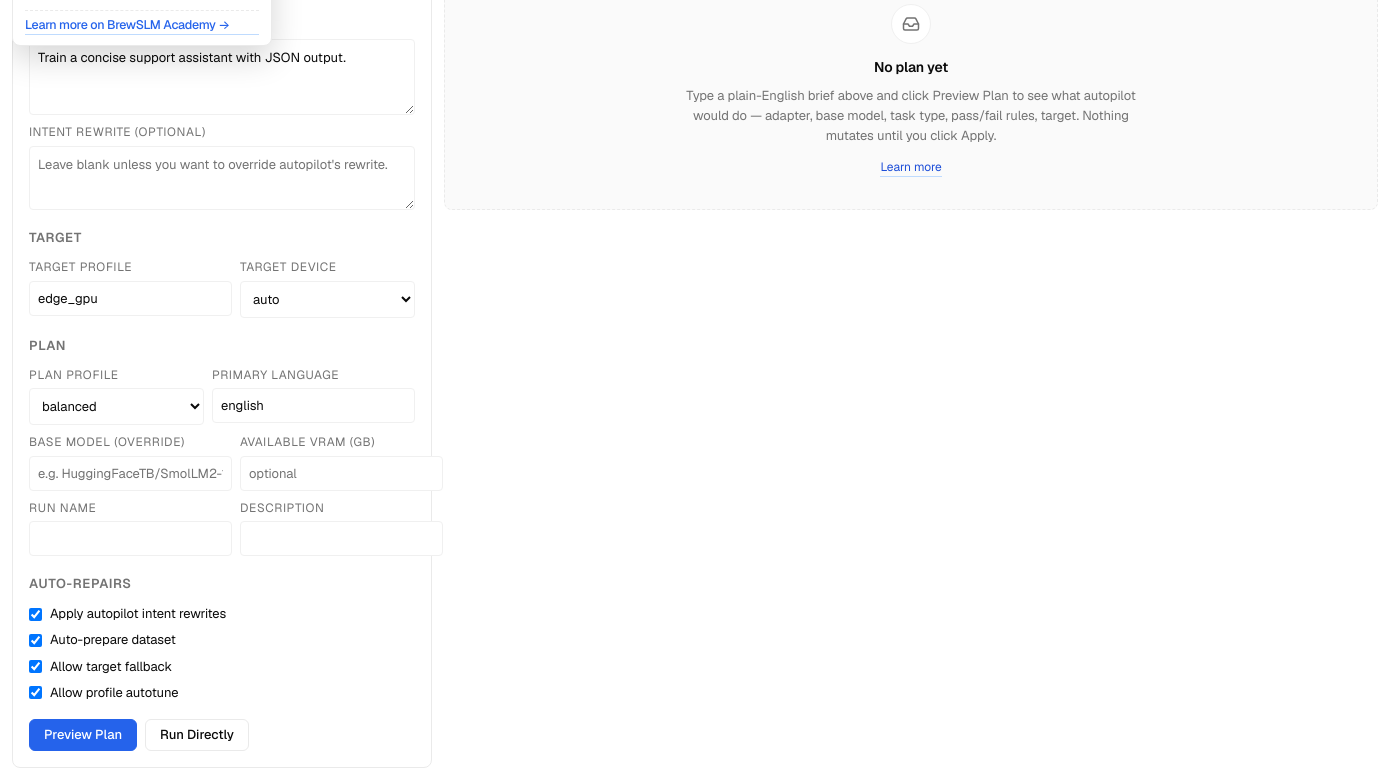
Test: ProjectAutopilotPage › Run Directly posts to /projects/:id/training/autopilot/v2/orchestrate/run with dry_run=false
This screenshot has width=1378, height=768.
(page scrolled)
Click the button "Run Directly": click(197, 735) x1=145 y1=719 x2=249 y2=751
(page scrolled)
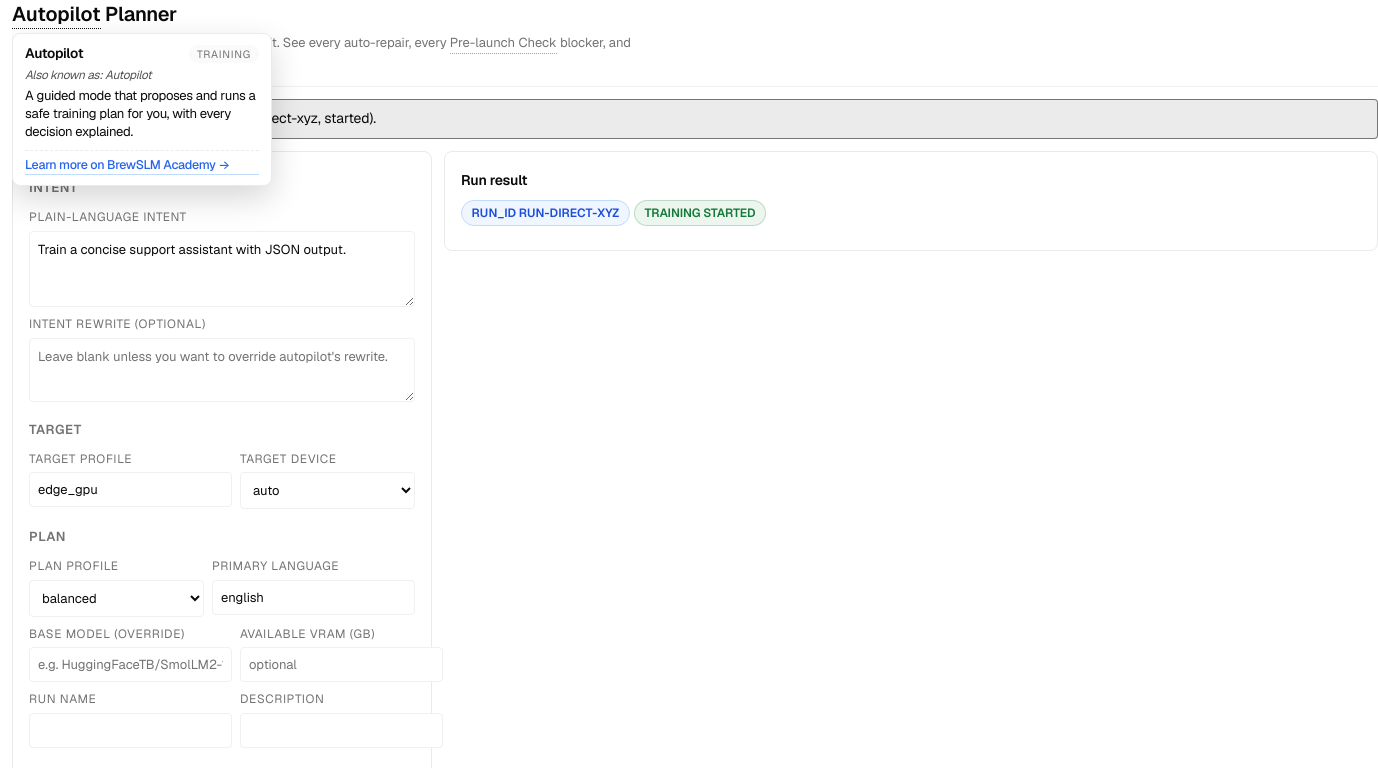
expect the text "Autopilot run completed (run_id run-direct-xyz, started)." is shown: met, box x1=12 y1=99 x2=1377 y2=139
